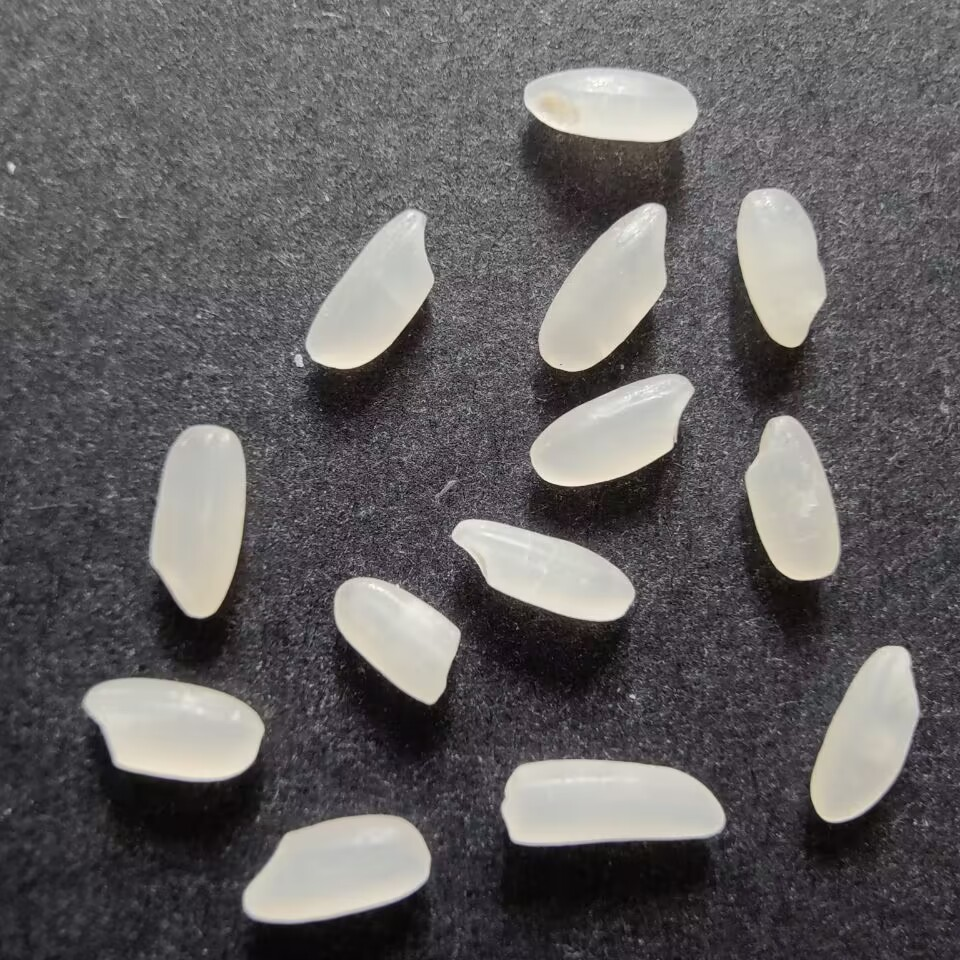broken: (331, 574, 465, 712)
rice: (530, 195, 677, 374), (236, 811, 434, 931), (302, 205, 441, 375), (808, 637, 926, 827), (493, 757, 730, 849), (77, 672, 270, 782), (445, 515, 639, 624), (526, 369, 699, 489), (146, 423, 247, 623), (742, 410, 849, 587), (732, 183, 833, 352), (514, 64, 703, 143)
